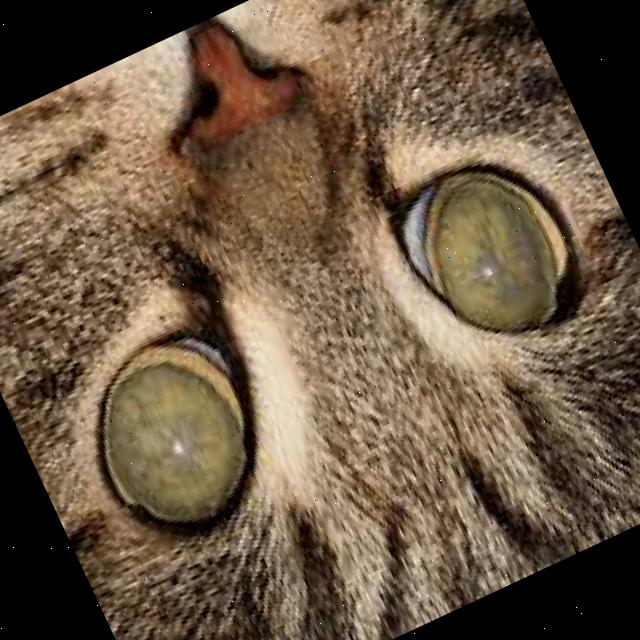cat-eye: (50, 298, 312, 574), (364, 117, 620, 390)
